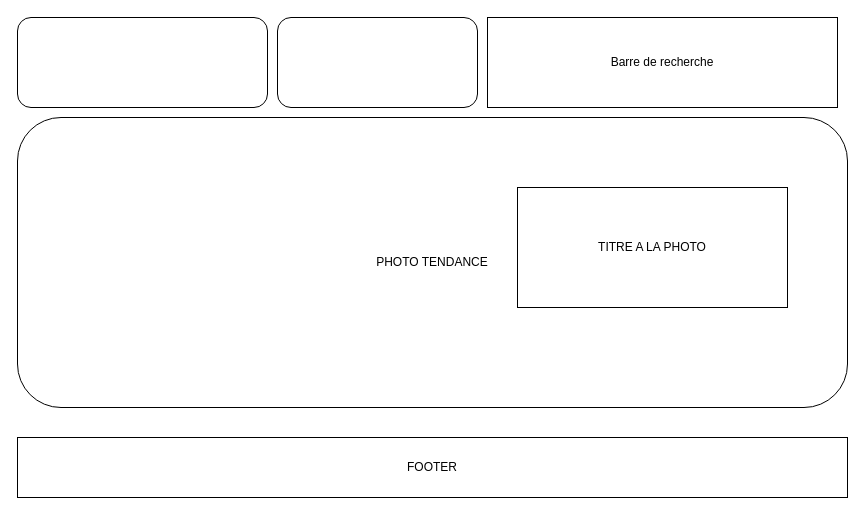
This 865x515 diagram has some shape labels left out. Here are the shapes that lost their labels. From the top down, the centre of each, then its label:
At [142,62]: "Logo( MangAnim)".
At [377,62]: "Catégorie les plus tendances - Shonen - Shojo".
